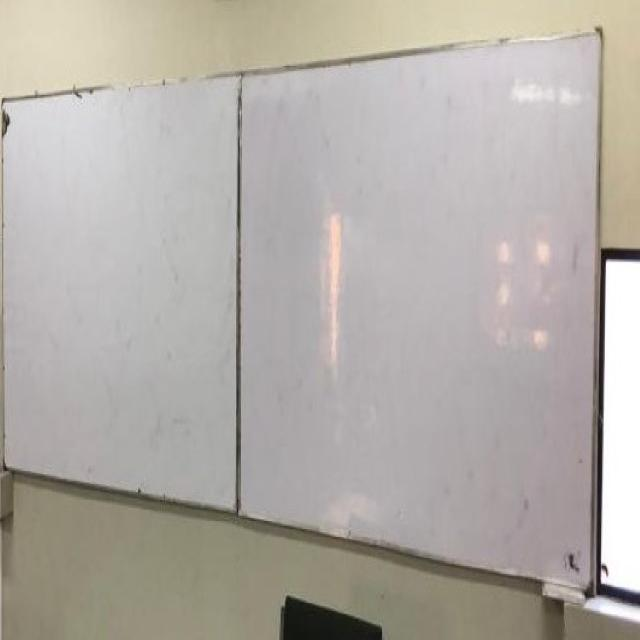White-board: (0, 27, 600, 600)
